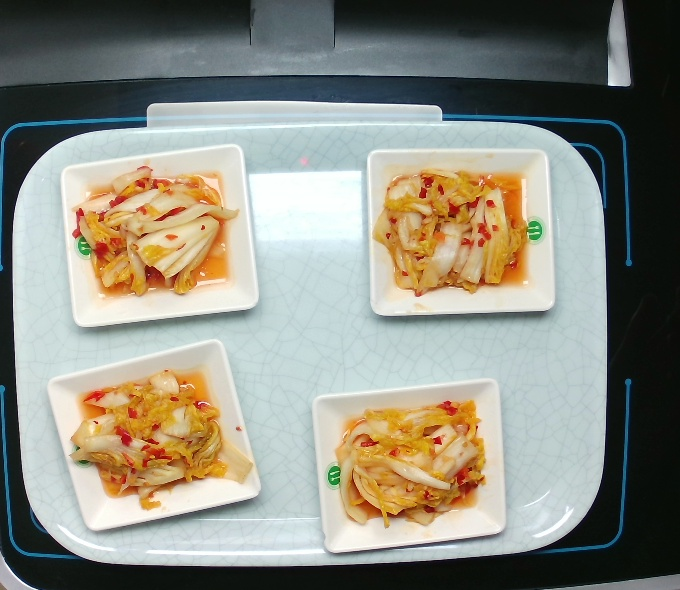wcq-SuanLaBaiCai: (65, 362, 254, 516), (68, 165, 242, 304), (330, 395, 493, 536), (371, 158, 533, 296)
